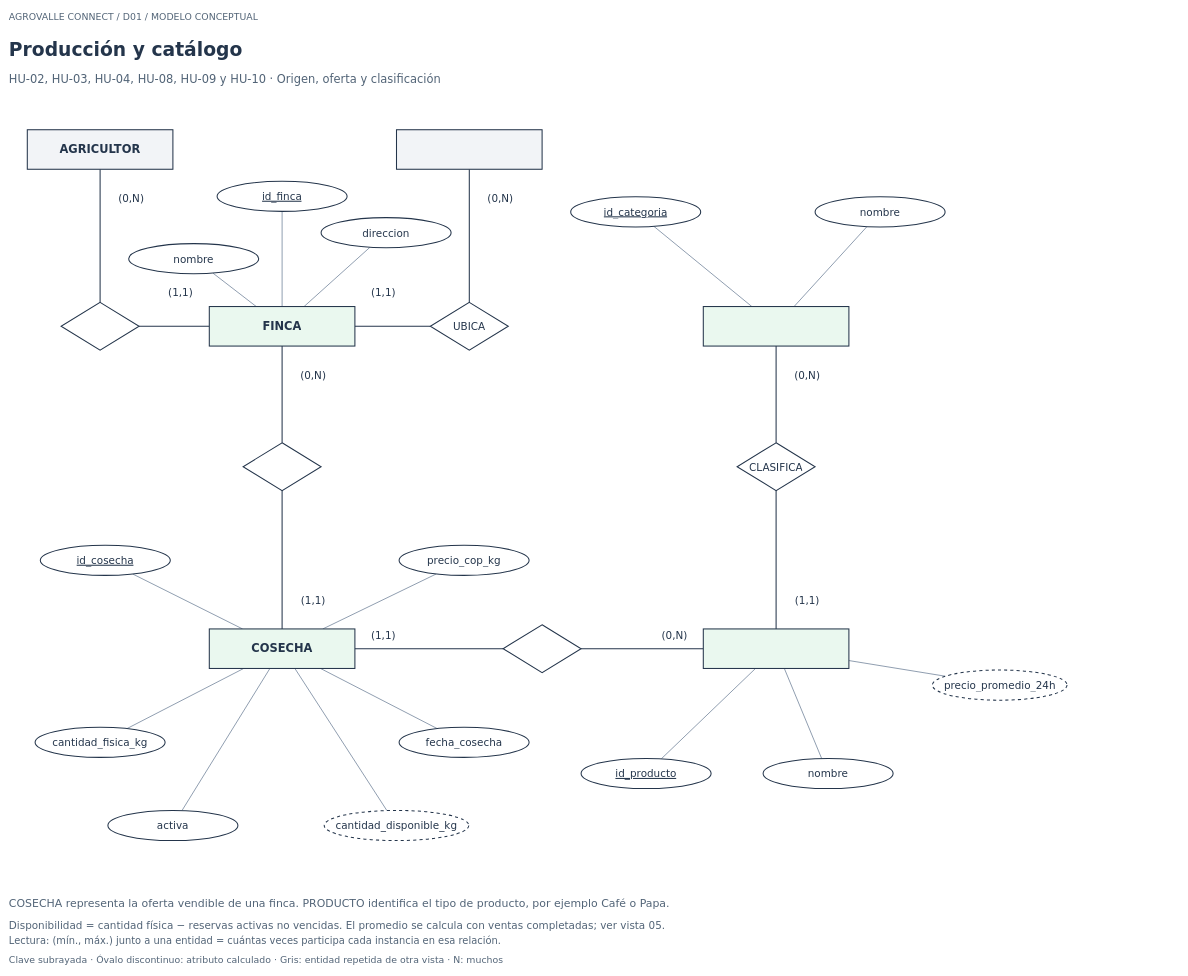
This 1188x976 diagram has some shape labels left out. Each missing label, with the box of its shape:
CATEGORIA: (703, 306, 849, 346)
MUNICIPIO: (396, 129, 542, 170)
POSEE: (60, 302, 139, 350)
PRODUCE: (242, 442, 321, 491)
PRODUCTO: (703, 628, 849, 669)
TIPIFICA: (502, 624, 581, 673)
